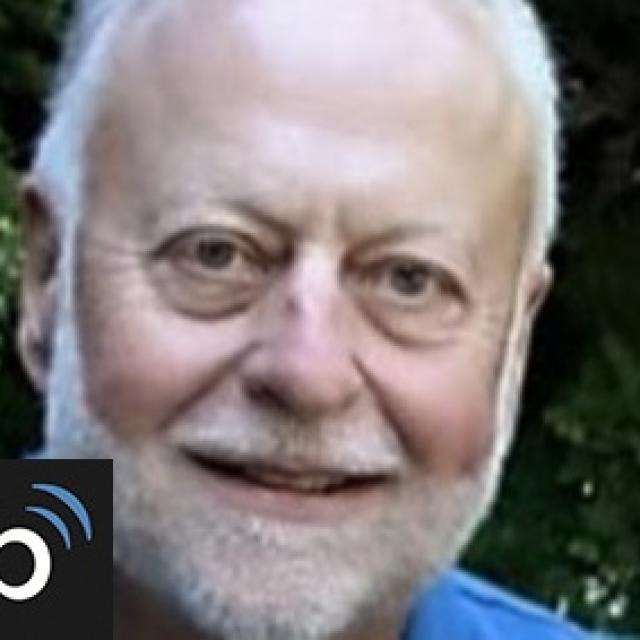Normal: (42, 3, 537, 582)
